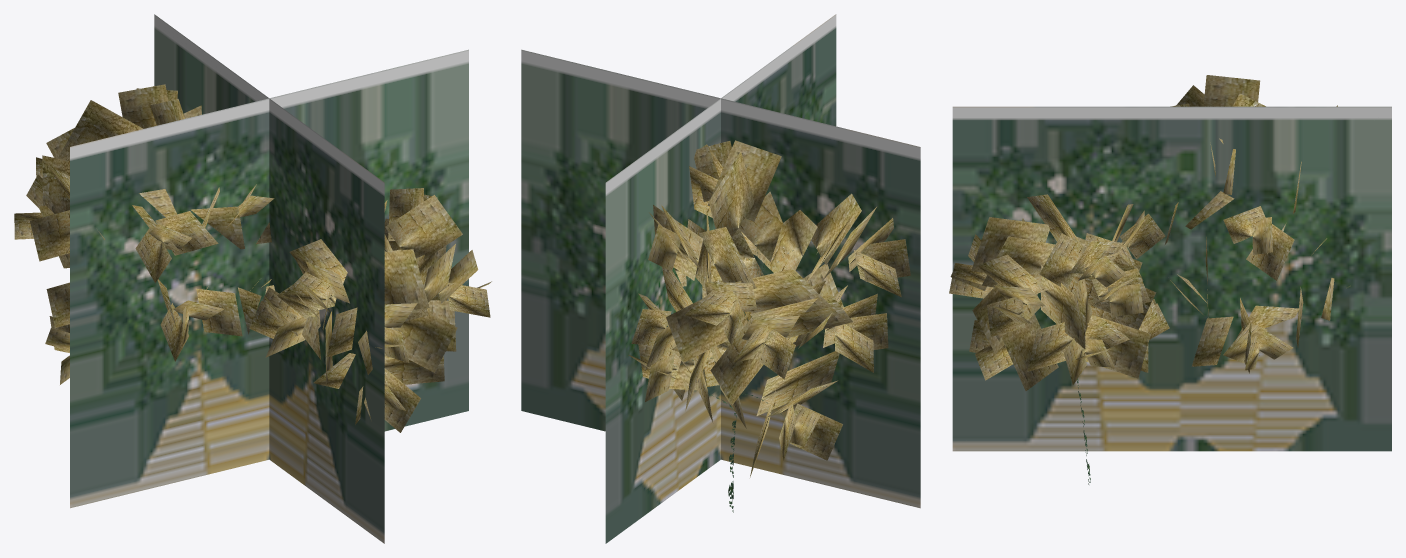
File: Shrub1-4A.fbx
3 renders of one model, left to right at view 1: azimuth 30°, elevation 25°; view 2: azimuth 150°, elevation 25°; view 3: azimuth 270°, elevation 25°, orthographic. The views are drawn at different scales.
Parts seen in each view (by area): view 1: Billboard-Shrub1-4A, Shrub1-4A_LOD0; view 2: Billboard-Shrub1-4A, Shrub1-4A_LOD0; view 3: Billboard-Shrub1-4A, Shrub1-4A_LOD0.
Part boxes in pixels (x1,y1,x2,y2): Billboard-Shrub1-4A: [70, 14, 468, 543]; Shrub1-4A_LOD0: [14, 84, 491, 432]; Billboard-Shrub1-4A: [521, 14, 920, 543]; Shrub1-4A_LOD0: [628, 140, 910, 512]; Billboard-Shrub1-4A: [952, 106, 1391, 451]; Shrub1-4A_LOD0: [949, 75, 1349, 484].
Size of what is drawn, in the model's own units: 414 by 374 by 410.
